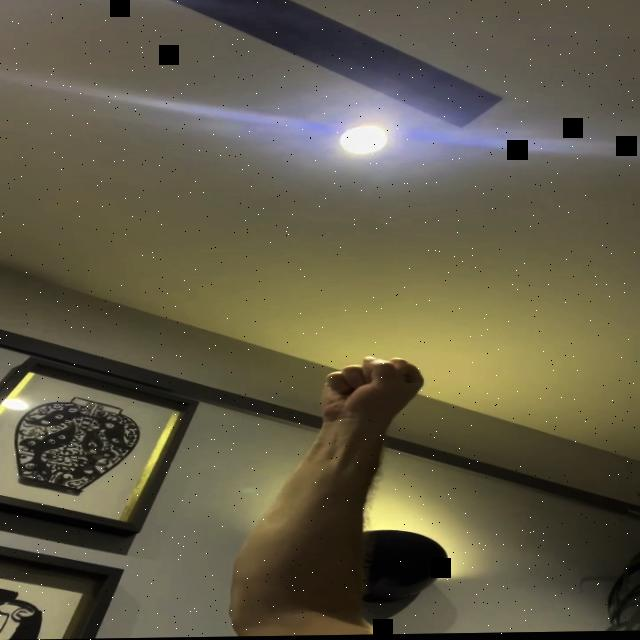Rock: (322, 357, 424, 422)
